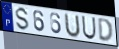6: (49, 12, 63, 36), (33, 10, 46, 33)
D: (97, 18, 114, 43)
S: (15, 6, 30, 32)
U: (64, 12, 82, 39), (81, 15, 97, 41)
